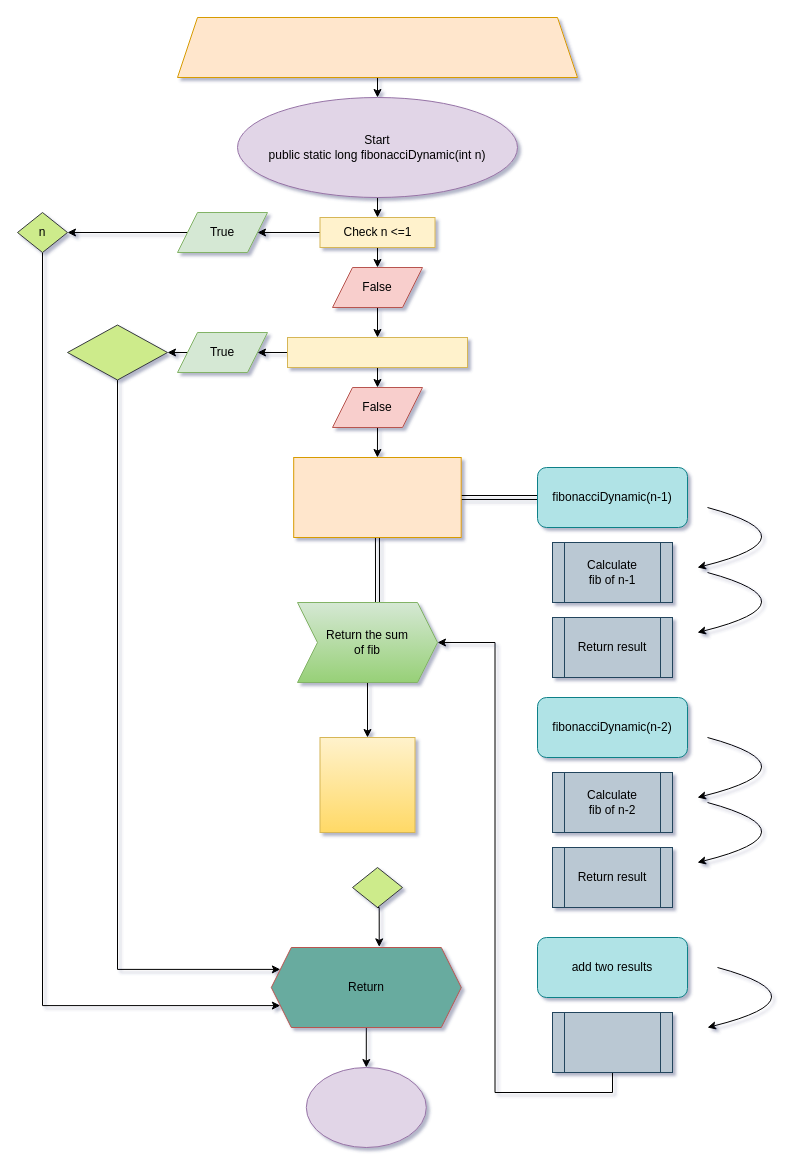
Image size: 796x1171. Some labels were removed from this diagram. Here are the shapes that lost their labels. From the top down, the centre of each, then its label:
At [377,47]: "Create: private static final Map<Integer, Long> memo = new HashMap<>();".
At [117,352]: "memo.get(n)".
At [377,352]: "Check memo.containsKey(n)".
At [377,497]: "Create: long fib =".
At [367,784]: "memo.put(n,fib);".
At [377,887]: "fib".
At [612,1042]: "Calculate the sum".
At [365,1107]: "End".
